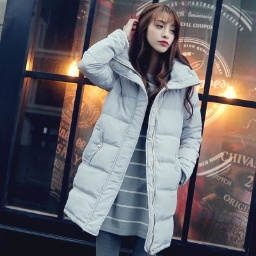face: (132, 3, 184, 76)
